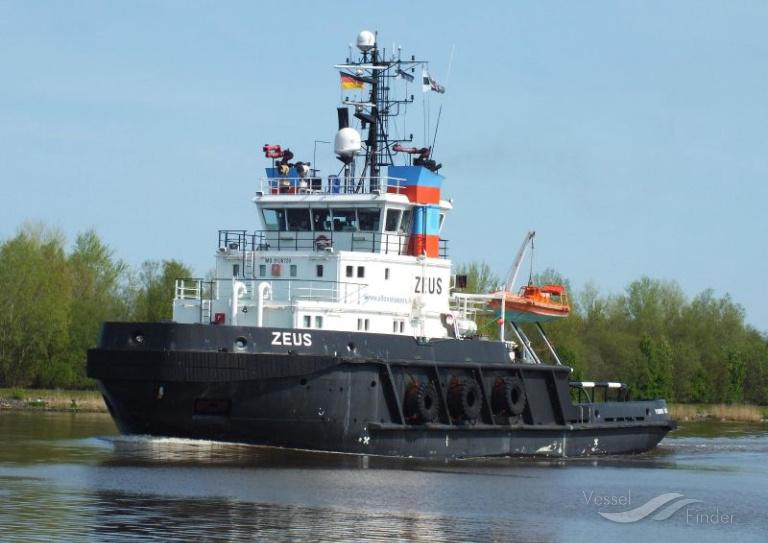OCR: (263, 326, 316, 355), (410, 271, 450, 296)
